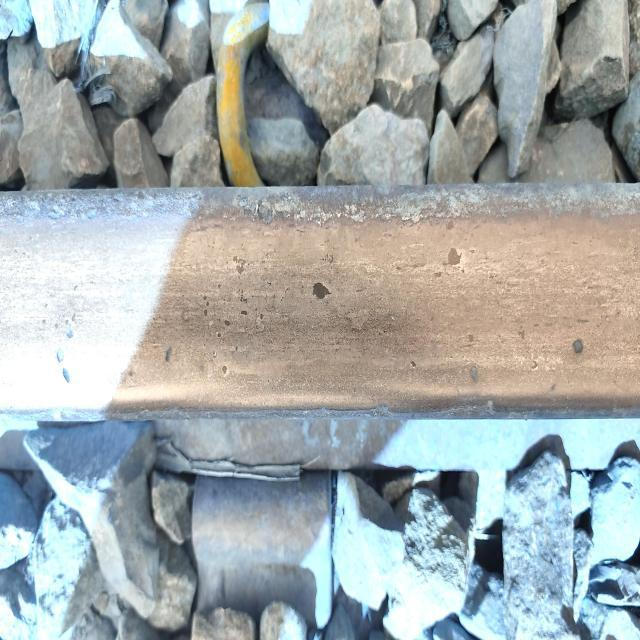Good Fasteners: (216, 2, 269, 187)
Missing Fastener: (158, 462, 360, 640)
